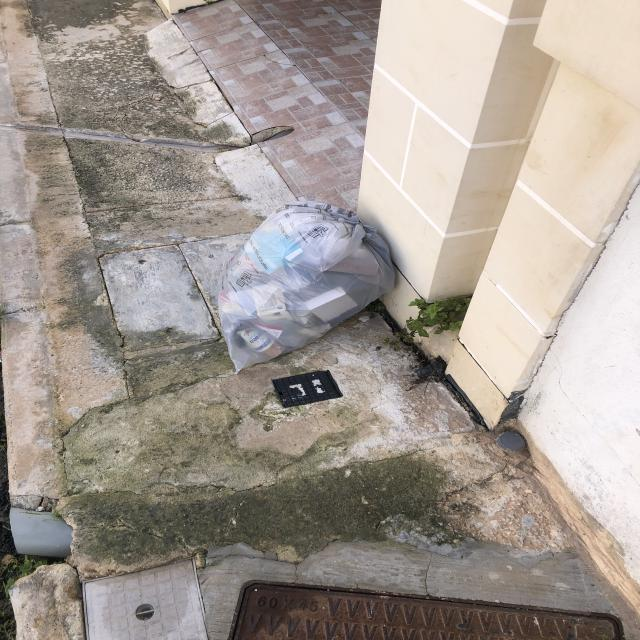Recycled Waste -Grey or Green Bag-: (218, 200, 399, 375)
